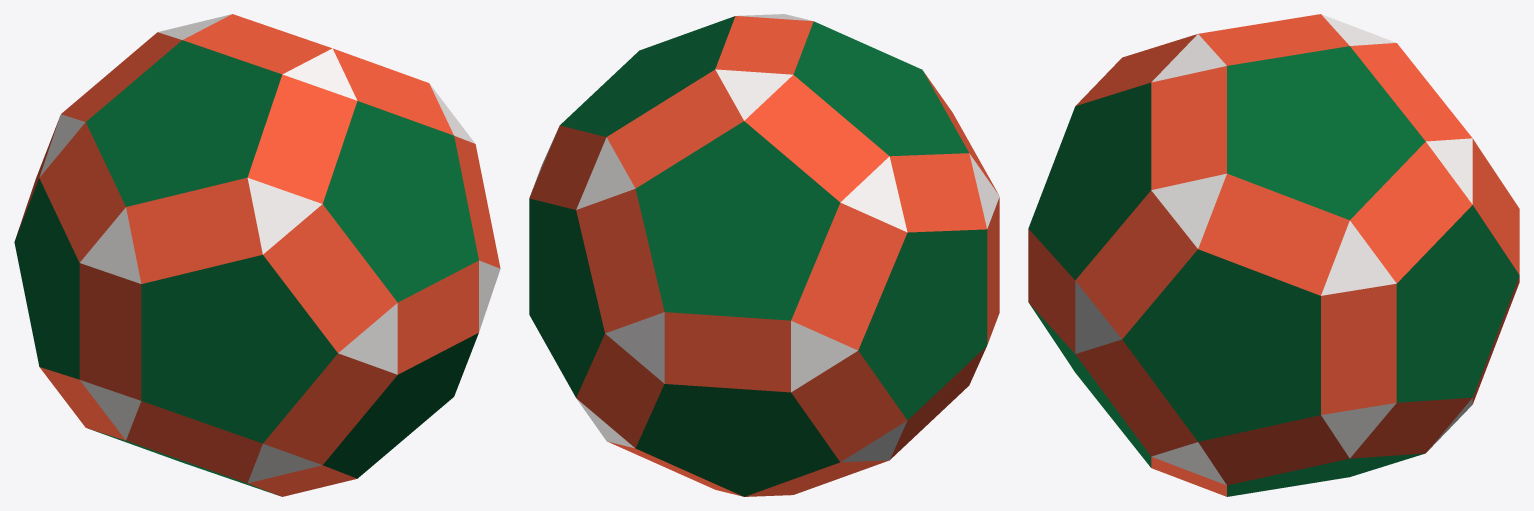
File: rhombicosidodecahedron.fbx
3 views of the same model, side by side, from view 1: azimuth 30°, elevation 25°; view 2: azimuth 150°, elevation 25°; view 3: azimuth 270°, elevation 25° (orthographic). The views are drawn at different scales.
Visible parts, largest first — view 1: polyhedronisme-eD; view 2: polyhedronisme-eD; view 3: polyhedronisme-eD.
Part boxes in pixels (x1,y1,x2,y2): polyhedronisme-eD: (14, 14, 500, 496); polyhedronisme-eD: (529, 14, 999, 496); polyhedronisme-eD: (1028, 14, 1519, 496).
Size of the model in its own units: 189 by 190 by 196.
